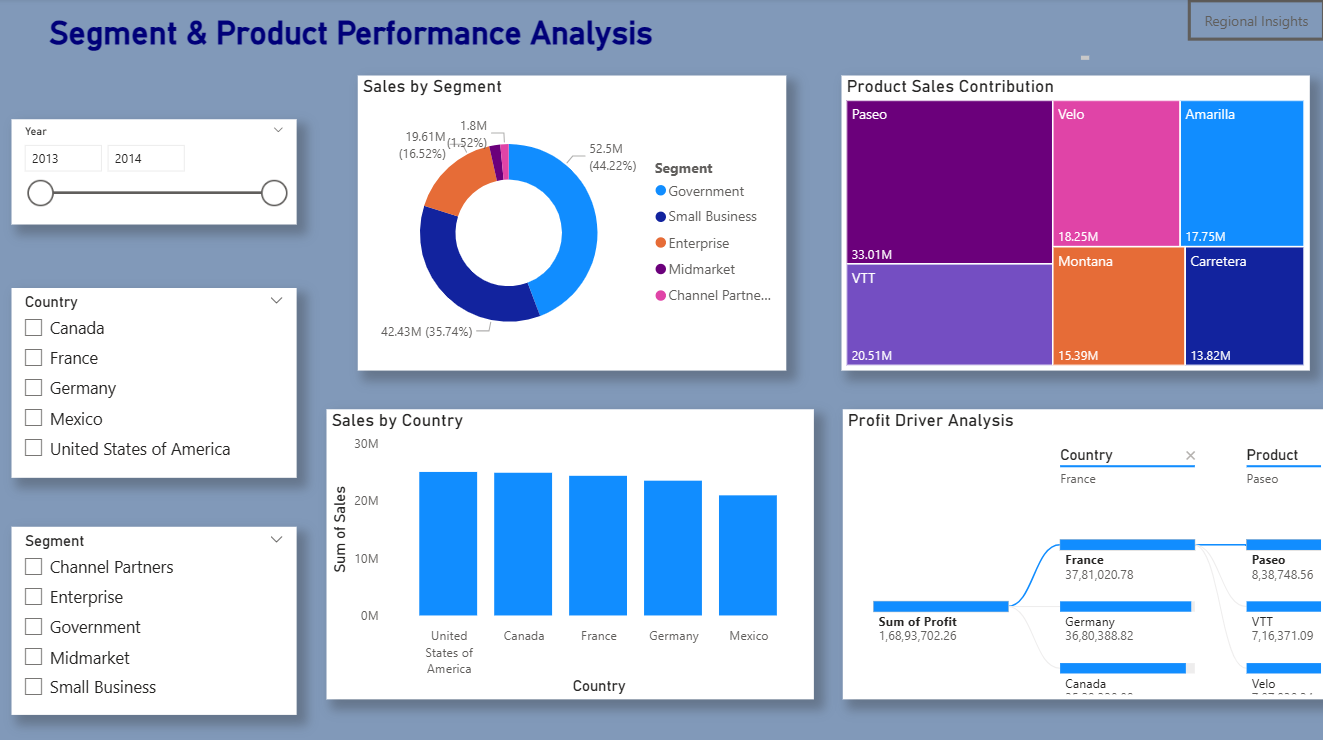

The dashboard page shown, as its layout file describes it:
{"tool":"powerbi","page":{"name":"Segment Analysis","canvas":[1280,720],"ordinal":1},"visuals":[{"type":"donutChart","title":"Sales by Segment","fields":{"Category":["financials.Segment"],"Y":["Sum(financials. Sales)"]},"box":[346.2,75,413.8,285],"z":0},{"type":"treemap","title":"Product Sales Contribution","fields":{"Group":["financials.Product"],"Values":["Sum(financials. Sales)"]},"box":[813.3,75,451.7,285],"z":1000},{"type":"clusteredColumnChart","title":"Sales by Country","fields":{"Category":["financials.Country"],"Y":["Sum(financials. Sales)"]},"box":[315.5,397.4,470.8,280],"z":2000},{"type":"slicer","fields":{"Values":["financials.Year"]},"box":[11.7,116.7,275,101.7],"z":3000},{"type":"slicer","fields":{"Values":["financials.Country"]},"box":[11.7,280,275,183.3],"z":4000},{"type":"slicer","fields":{"Values":["financials.Segment"]},"box":[11.7,510,275,181.7],"z":5000},{"type":"decompositionTreeVisual","title":"Profit Driver Analysis","fields":{"Analyze":["Sum(financials.Profit)"],"ExplainBy":["financials.Country","financials.Product","financials.Segment"]},"box":[813.8,397.5,466.2,280],"z":6000},{"type":"textbox","title":"Segment & Product Performance Analysis","box":[44,15.9,1013.7,48.9],"z":7000},{"type":"actionButton","box":[1147.5,1.2,132.5,40],"z":8000}]}

Visuals, with their boxes in screenshot pixels (x1, y1, x2, y2), scaled from the page's 1280x720 canvas onto the 1323x740 screenshot:
"Sales by Segment" donutChart: 358/77/786/370
"Product Sales Contribution" treemap: 841/77/1307/370
"Sales by Country" clusteredColumnChart: 326/408/813/696
slicer - financials.Year: 12/120/296/224
slicer - financials.Country: 12/288/296/476
slicer - financials.Segment: 12/524/296/711
"Profit Driver Analysis" decompositionTreeVisual: 841/409/1322/696
"Segment & Product Performance Analysis" textbox: 45/16/1093/67
actionButton: 1186/1/1322/42
